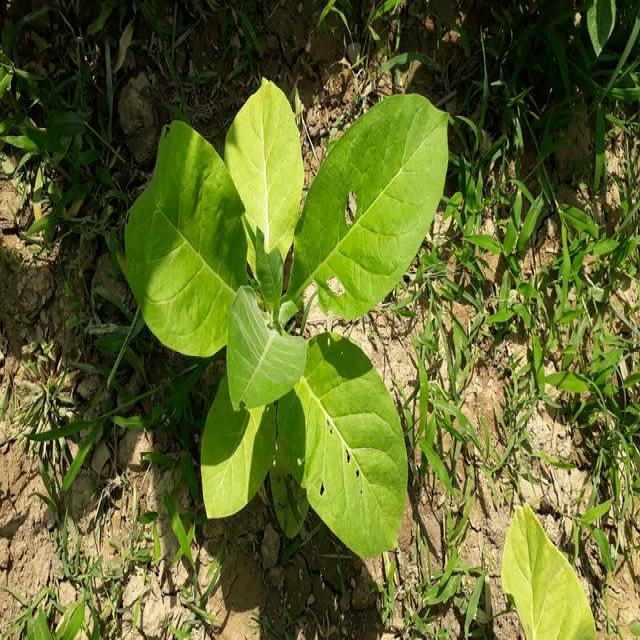crop: (122, 86, 442, 559), (499, 508, 594, 640)
